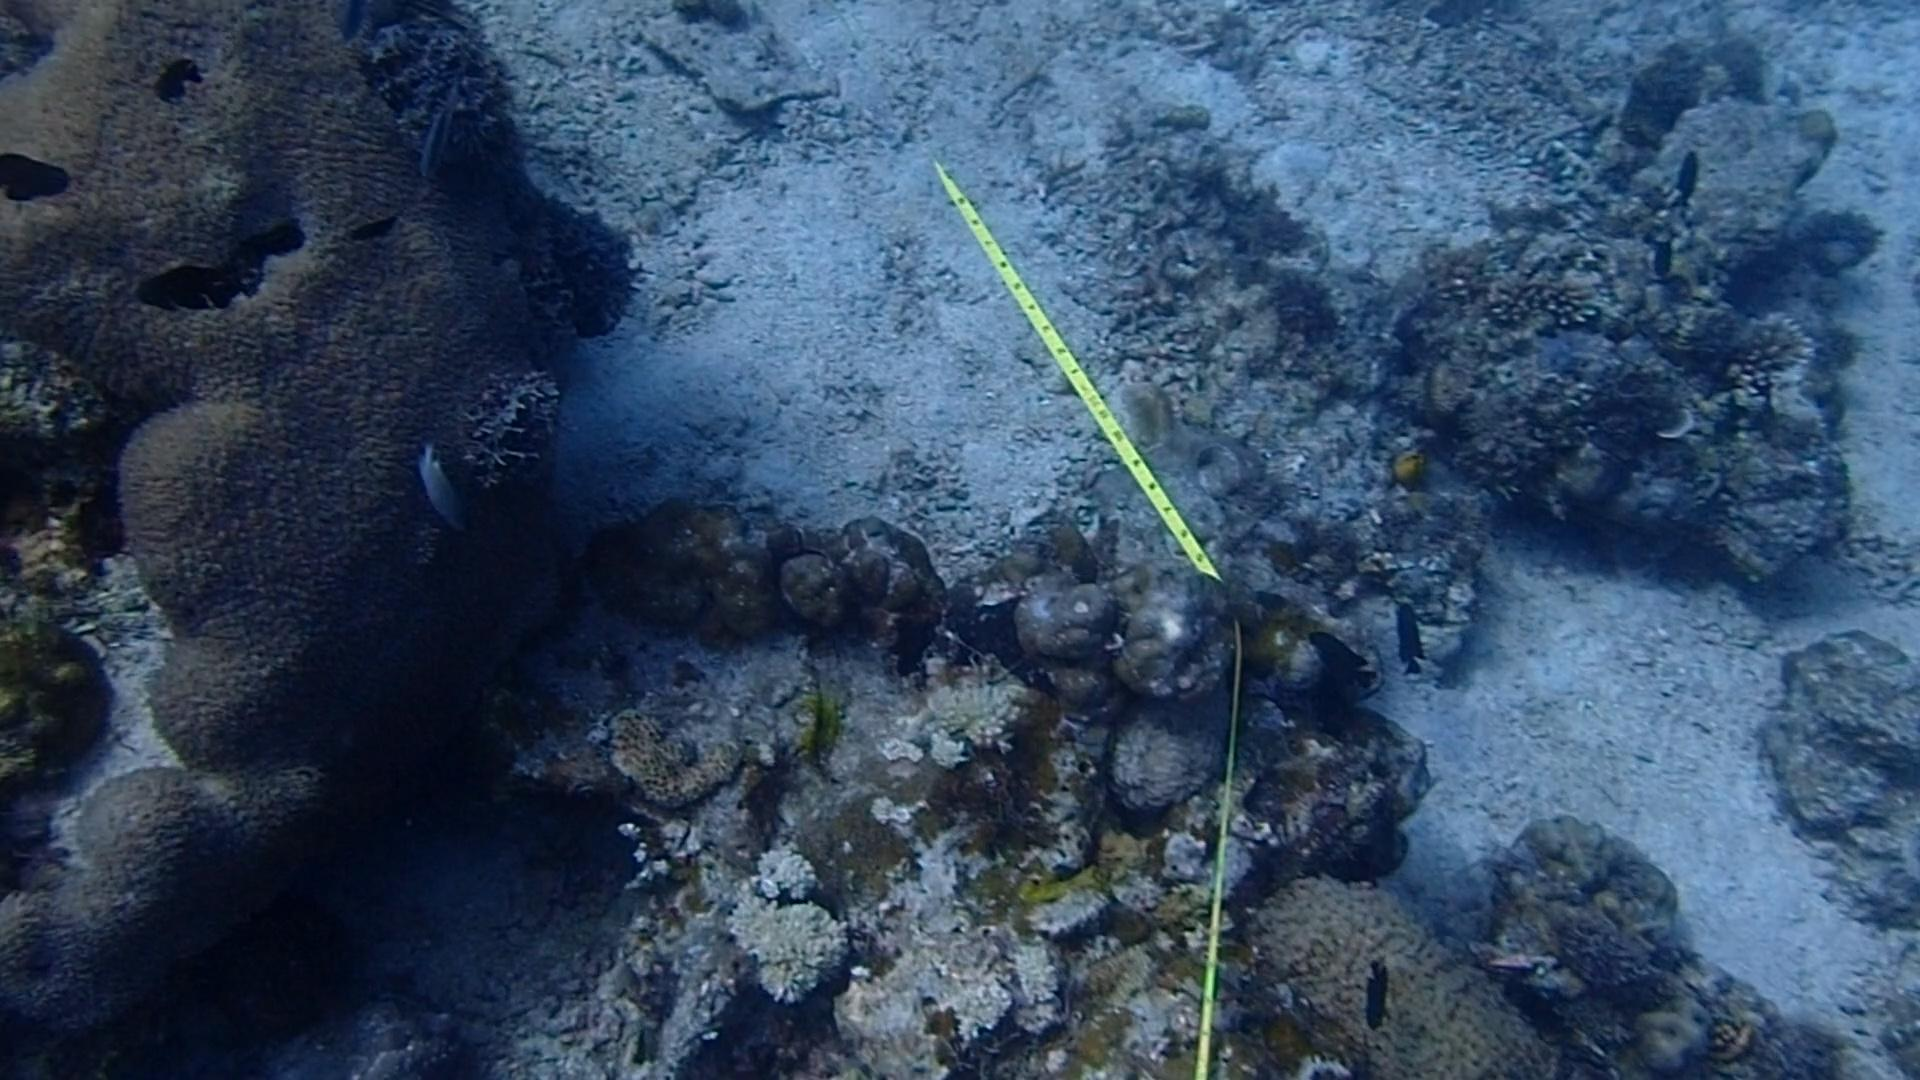Dark Fish: (1296, 615, 1383, 692), (127, 252, 220, 318), (1486, 971, 1565, 1042), (133, 51, 211, 116), (1383, 591, 1437, 670), (1352, 955, 1399, 1035), (338, 200, 405, 255), (1668, 135, 1716, 210), (1633, 218, 1680, 285)
Light Fish: (397, 433, 477, 535), (413, 66, 476, 177)
